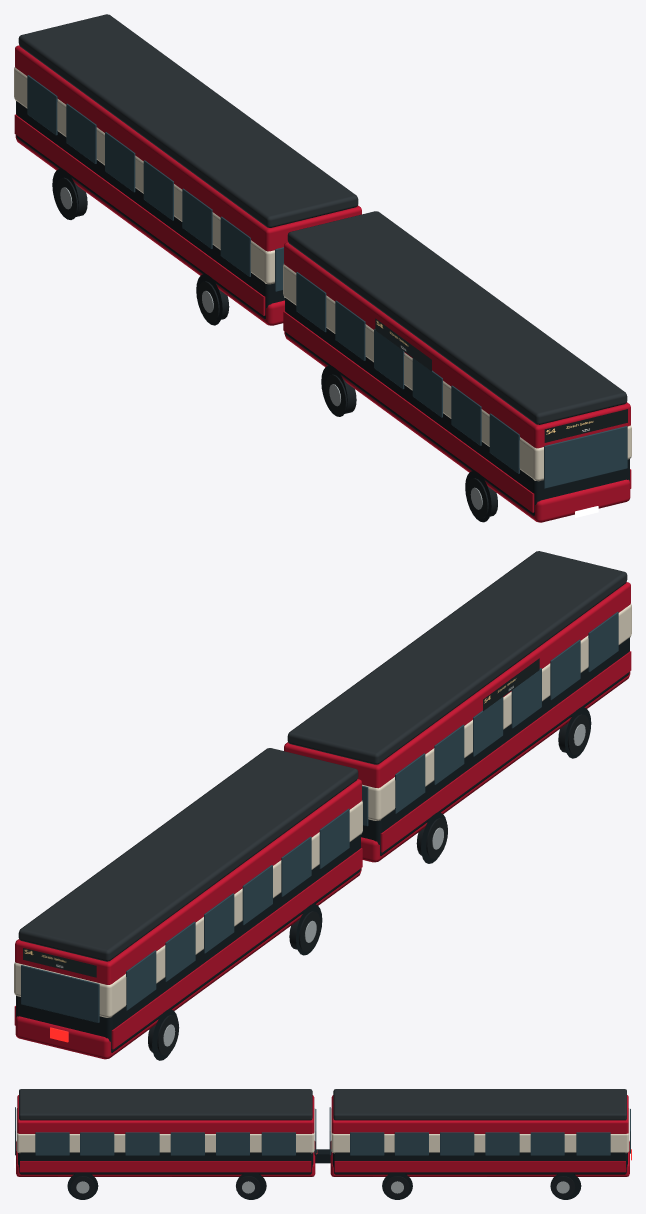
The model's file is rail-509704633f6c.glb.
3 renders of one model, top to bottom at view 1: azimuth 30°, elevation 25°; view 2: azimuth 150°, elevation 25°; view 3: azimuth 270°, elevation 25°, orthographic. The views are drawn at different scales.
Parts seen in each view (by area): view 1: s4-roof, s4-body, s4-glass, s4-black, s4-cream, rolling-wheel (×4), s4-S4; view 2: s4-roof, s4-body, s4-glass, s4-black, s4-cream, rolling-wheel (×4), s4-S4; view 3: s4-roof, s4-body, s4-glass, s4-black, s4-cream, rolling-wheel (×4).
Part boxes in pixels (<box>): s4-roof: <box>18,14,627,424</box>; s4-body: <box>14,45,631,522</box>; s4-glass: <box>27,75,627,488</box>; s4-black: <box>16,101,629,522</box>; s4-cream: <box>14,67,631,481</box>; rolling-wheel (×4): <box>56,177,497,518</box>; s4-S4: <box>375,318,627,442</box>; s4-roof: <box>18,551,627,961</box>; s4-body: <box>14,582,631,1059</box>; s4-glass: <box>21,611,618,1022</box>; s4-black: <box>16,637,629,1060</box>; s4-cream: <box>14,603,631,1017</box>; rolling-wheel (×4): <box>148,714,589,1055</box>; s4-S4: <box>23,658,539,977</box>; s4-roof: <box>19,1089,626,1120</box>; s4-body: <box>16,1095,629,1176</box>; s4-glass: <box>15,1107,630,1155</box>; s4-black: <box>18,1149,627,1199</box>; s4-cream: <box>16,1108,629,1153</box>; rolling-wheel (×4): <box>70,1176,575,1198</box>.
Size of the model in its own units: 1.29 by 1.69 by 11.2.
9 materials, 1 textured.
